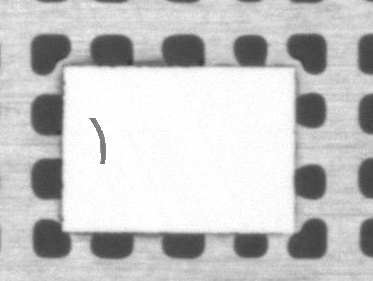DIE_INK: (88, 118, 110, 164)
